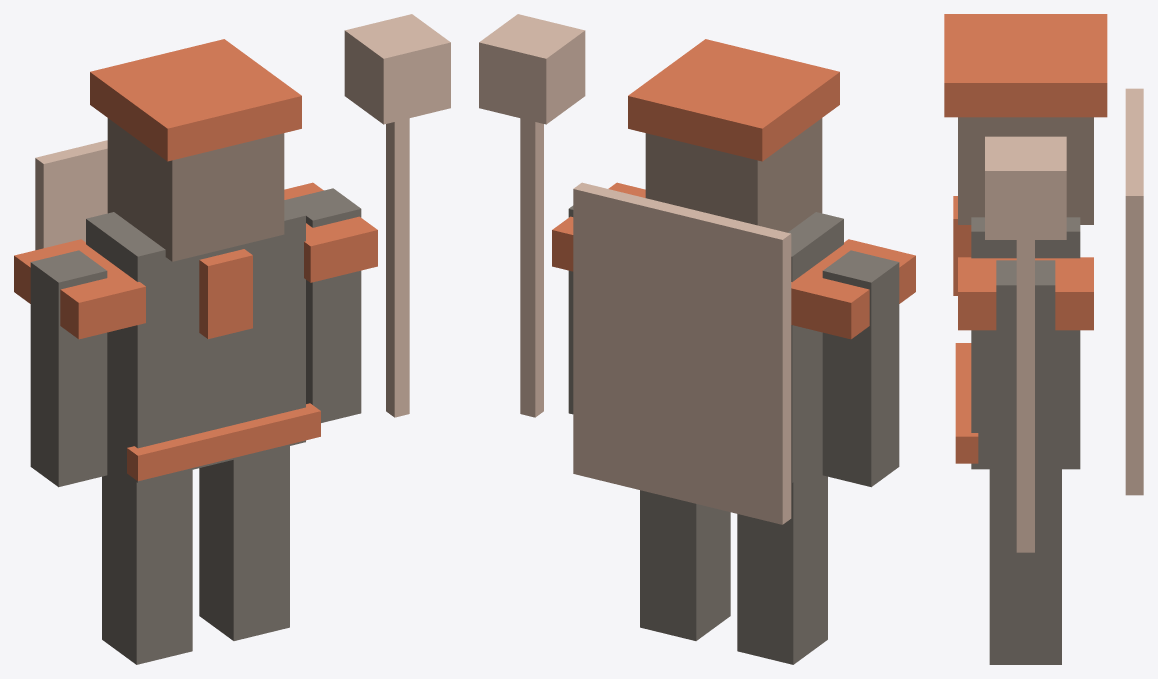
File: 10_kiva_whispercoil_tamer_at_retrieval.glb
3 renders of one model, left to right at view 1: azimuth 30°, elevation 25°; view 2: azimuth 150°, elevation 25°; view 3: azimuth 270°, elevation 25°, orthographic. The views are drawn at different scales.
Visible parts, largest first — view 1: Kiva Whispercoil, Tamer at Retrieval; view 2: Kiva Whispercoil, Tamer at Retrieval; view 3: Kiva Whispercoil, Tamer at Retrieval.
Part boxes in pixels (left/top/right/bottom): Kiva Whispercoil, Tamer at Retrieval: left=14, top=14, right=450, bottom=664; Kiva Whispercoil, Tamer at Retrieval: left=479, top=14, right=915, bottom=664; Kiva Whispercoil, Tamer at Retrieval: left=944, top=14, right=1143, bottom=664.
Size of the model in its own units: 1.05 by 1.43 by 0.4484.
